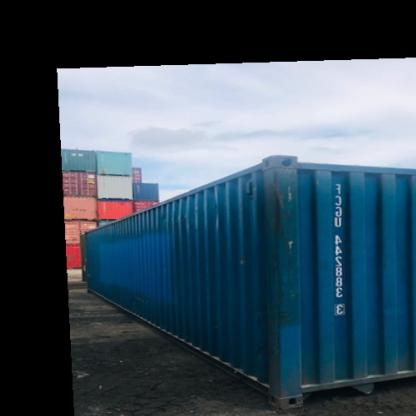Damage: (264, 168, 296, 320), (160, 198, 206, 234), (210, 181, 224, 236), (231, 251, 251, 266)
